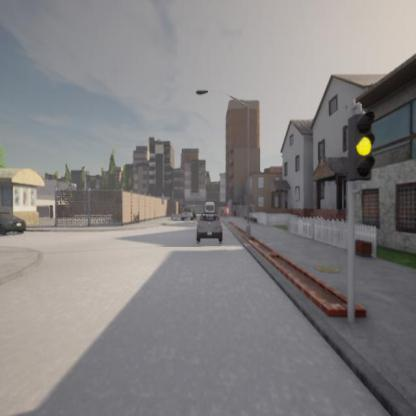traffic_light_orange: (348, 111, 376, 181)
vehicle: (194, 213, 224, 241), (0, 212, 26, 236)
